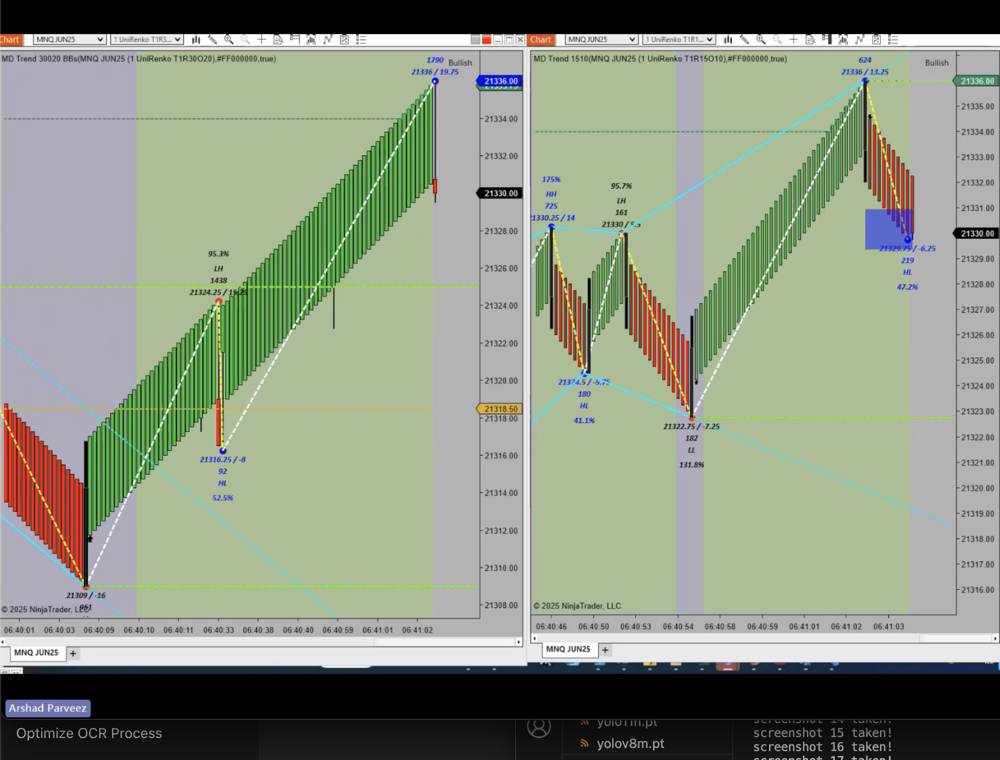HH: (541, 186, 563, 203)
HL: (899, 260, 919, 280), (214, 471, 233, 491), (575, 396, 593, 415)
LH: (611, 193, 634, 211), (209, 262, 230, 275)
LL: (684, 442, 701, 458)
